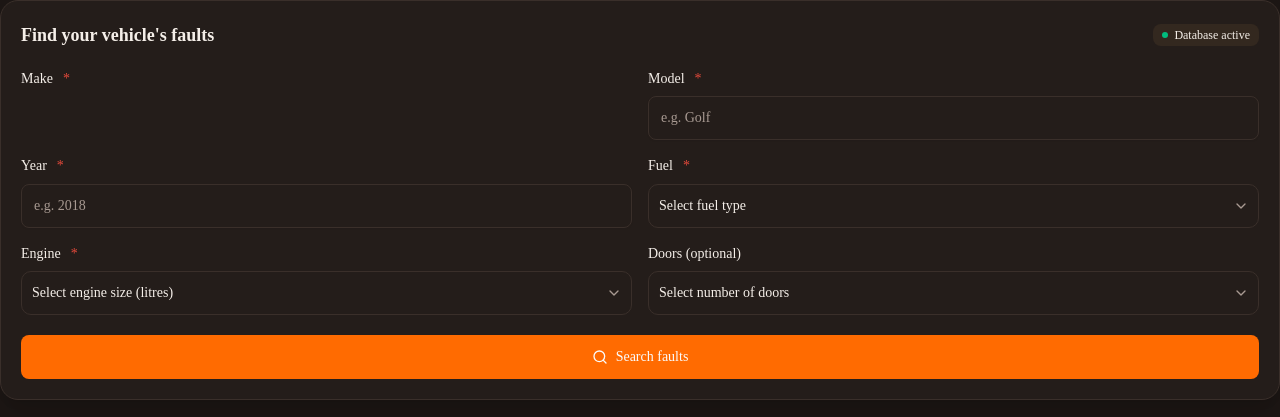
Scenario: VehicleSearchForm › hides the engine field once electric fuel is selected
Expected: the dropdown labelled "Engine" is shown, top-left (21, 271), bottom-right (632, 315)
Select "Electric" in the dropdown labelled "Fuel" at (954, 206), box top-left (648, 184), bottom-right (1259, 228)
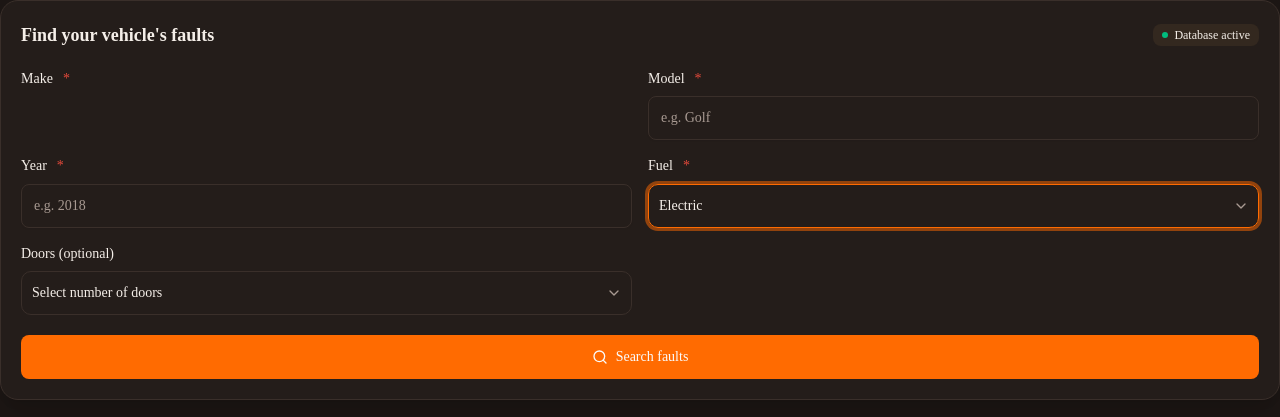
Expected: the label labelled "Engine" is gone
